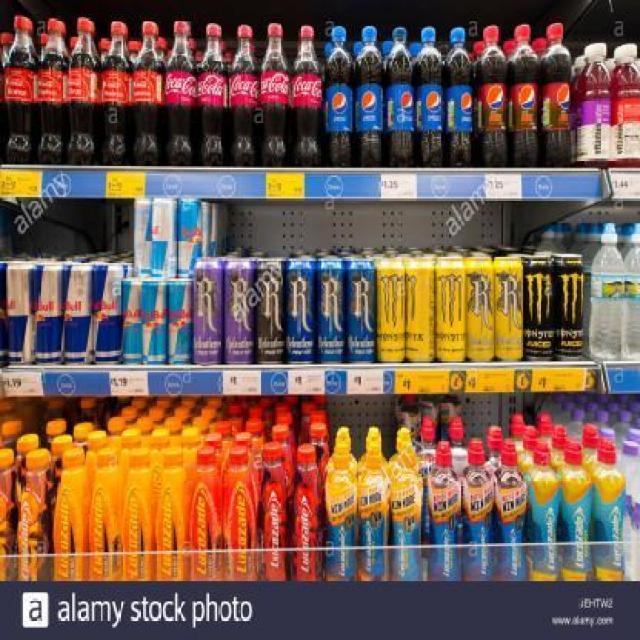Drinks: (164, 20, 200, 166), (258, 22, 292, 166), (540, 23, 572, 169), (508, 24, 540, 168), (292, 24, 324, 168), (475, 26, 507, 169), (199, 22, 230, 166), (229, 24, 260, 167), (324, 25, 355, 167), (354, 26, 385, 168), (385, 28, 416, 168), (415, 26, 444, 168), (445, 26, 474, 168)
